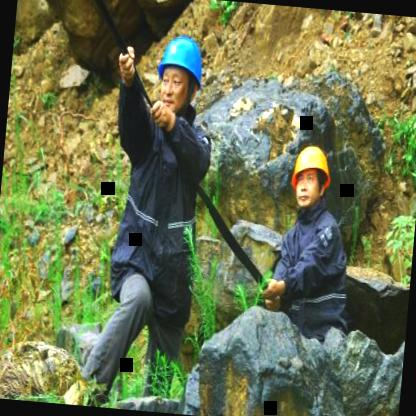helmet: (148, 26, 212, 124), (284, 137, 340, 215)
